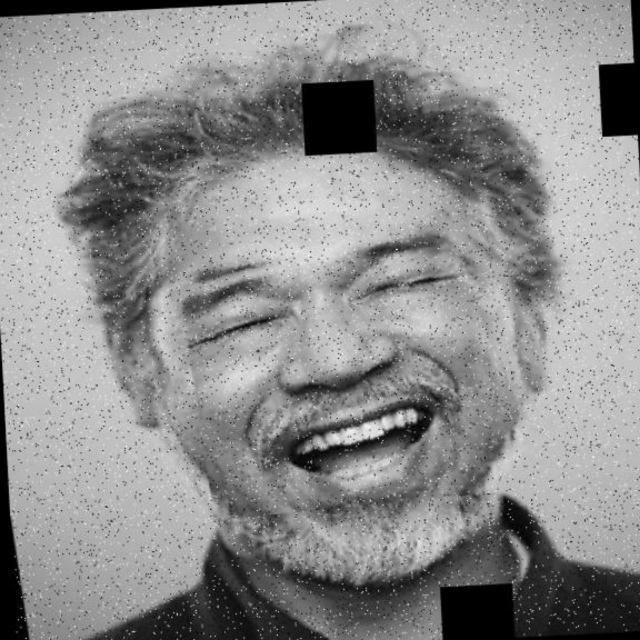Happy: (130, 124, 530, 575)
